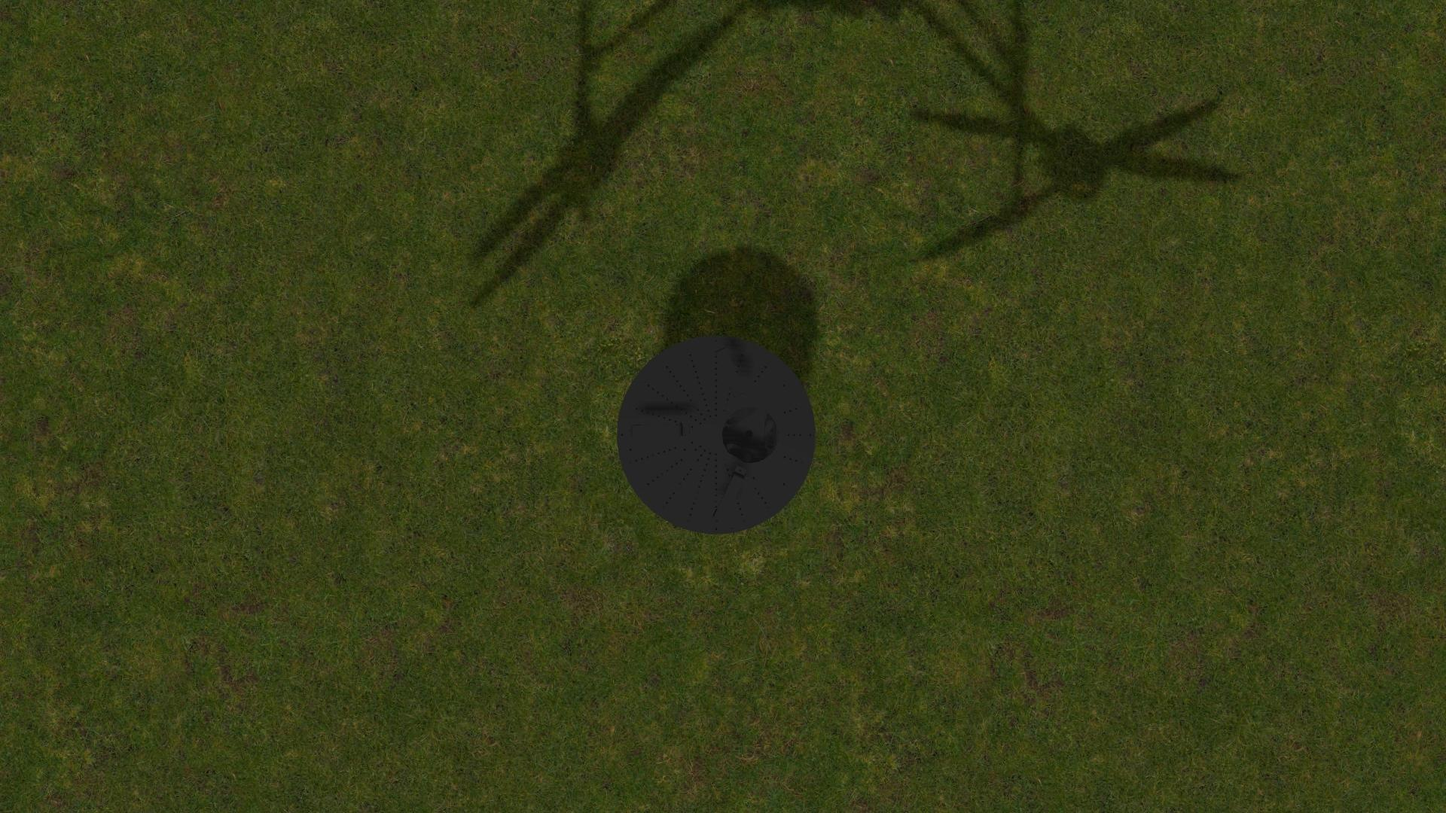alca: (710, 465, 747, 526), (713, 342, 748, 402), (627, 424, 690, 438)
armadilha: (617, 333, 816, 535)
